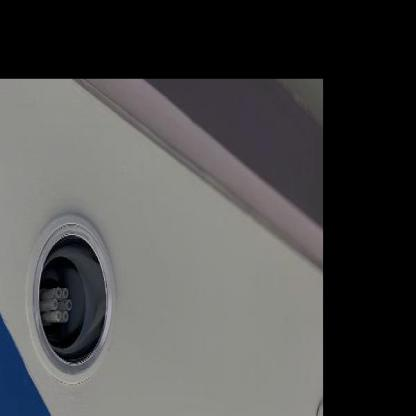light_off: (18, 173, 125, 397)
